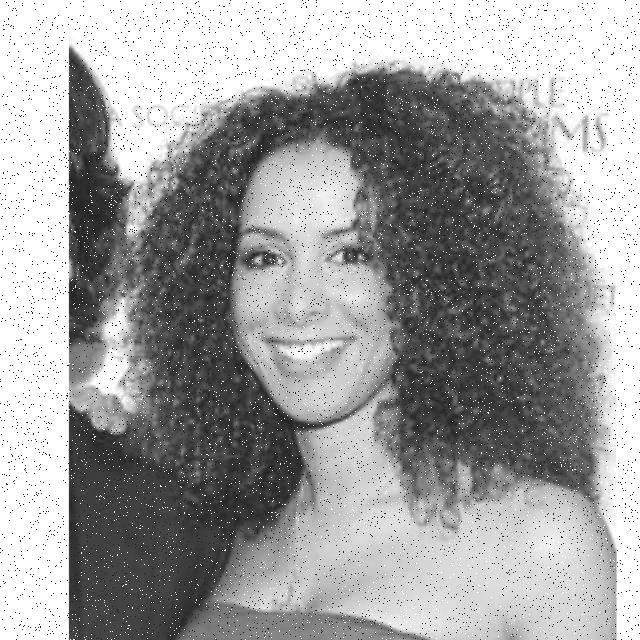real: (230, 186, 404, 430)
